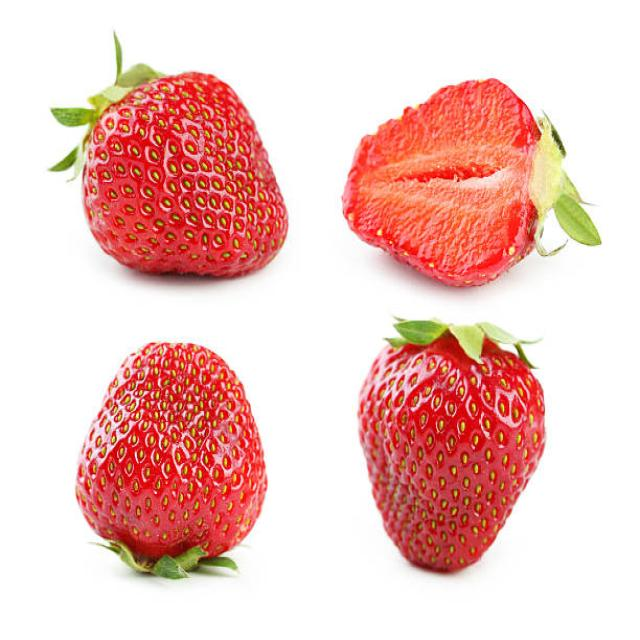Healthy Fruit: (357, 342, 546, 573), (81, 71, 288, 281), (73, 341, 268, 556), (340, 78, 542, 285)
